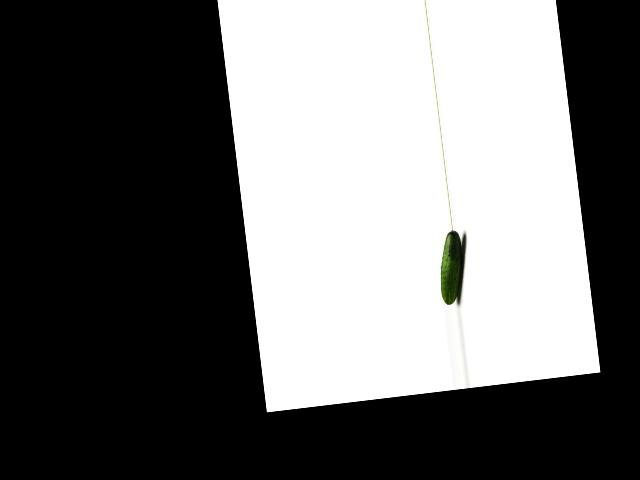cucumber: (434, 228, 468, 305)
